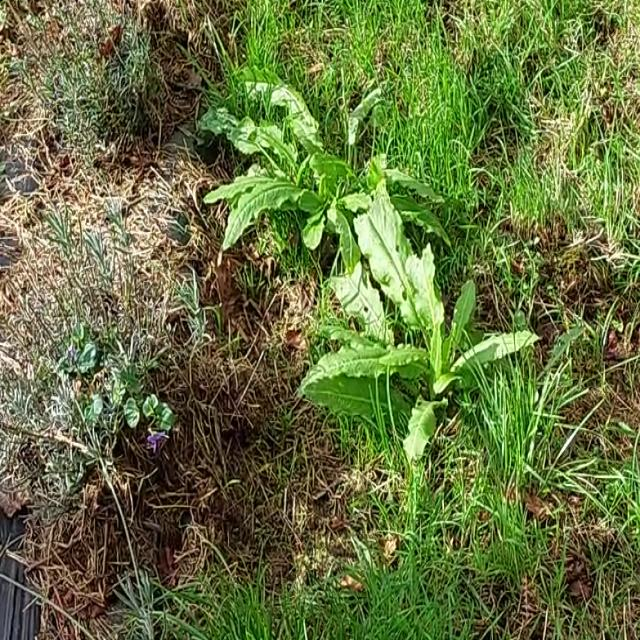organic waste: (292, 204, 542, 492), (176, 26, 436, 282)
